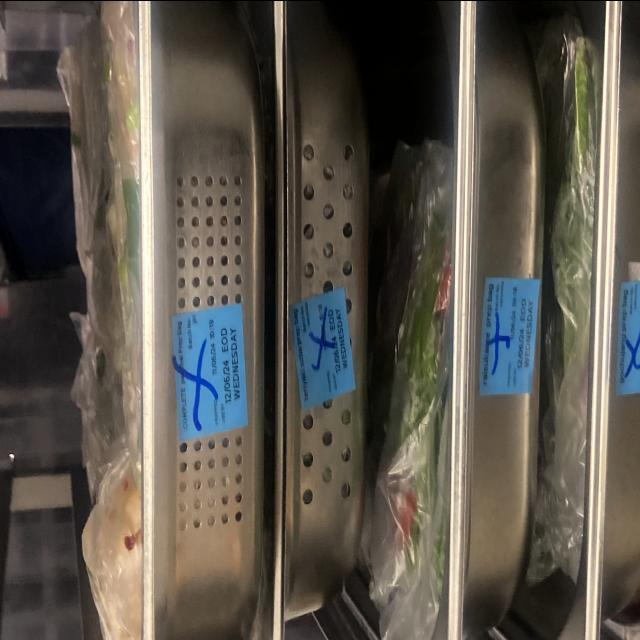product-labels: (171, 299, 251, 437), (286, 284, 355, 408), (478, 274, 542, 394)
